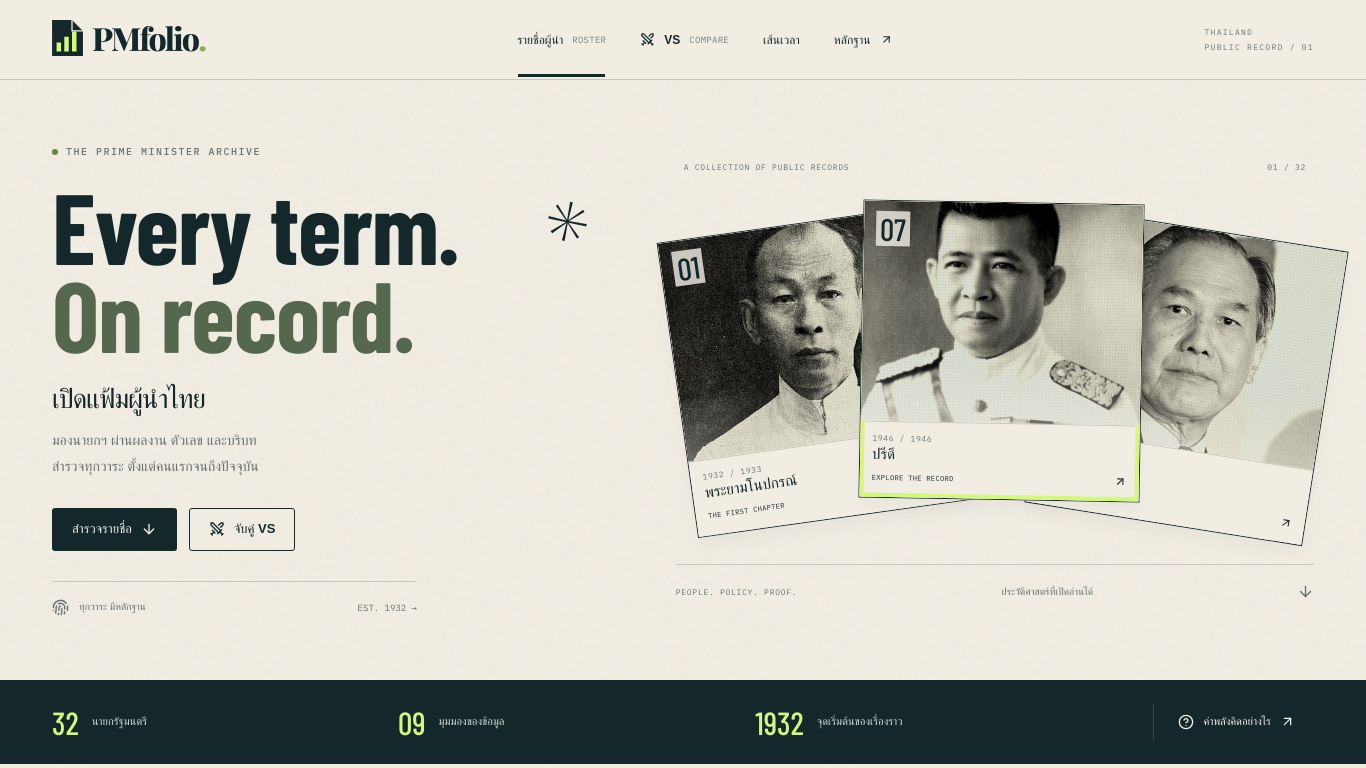
Test: roster to comparison flow › keeps fiscal context unscored and exposes real means, units, and WGI scale in raw mode
Click the button "VS COMPARE".
click(685, 40)  # box [628,22,741,56]
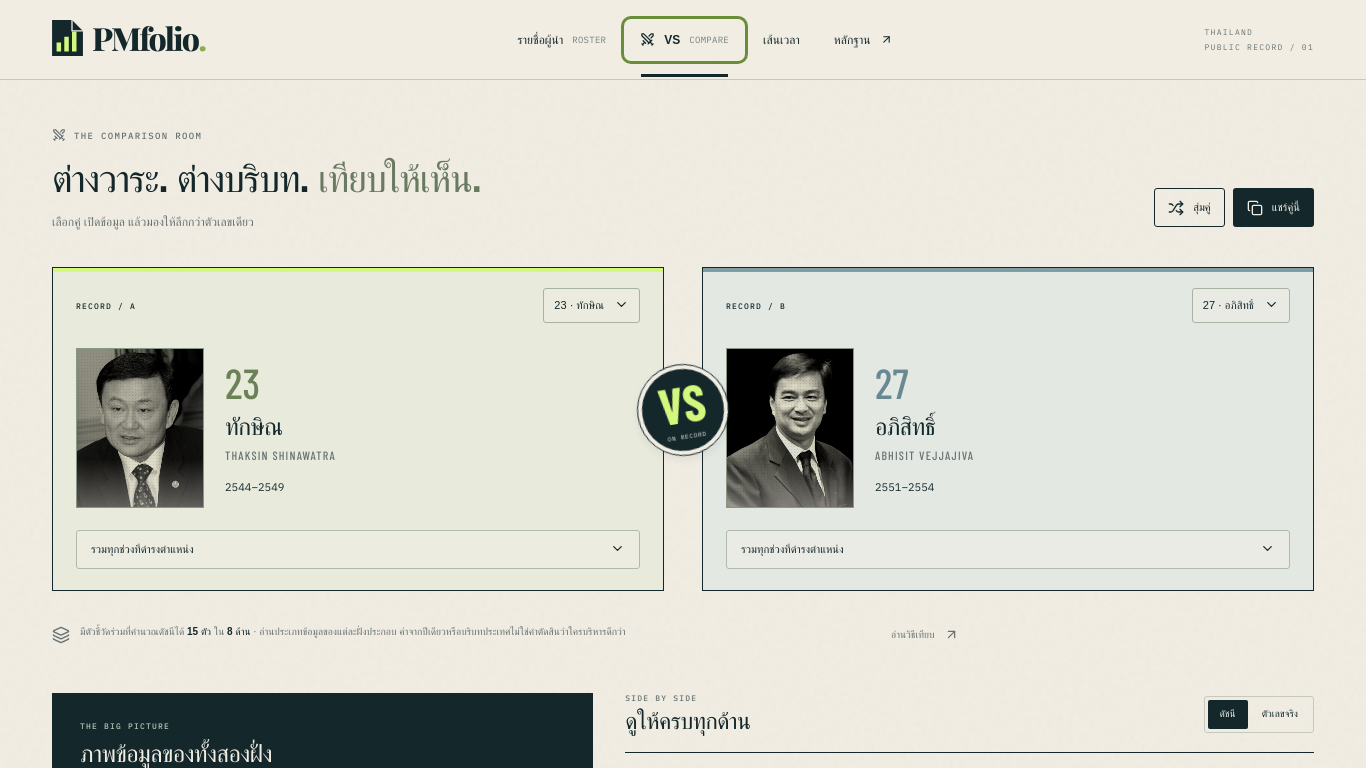
Click the button "ตัวเลขจริง".
click(1280, 714)  # box [1250,700,1310,729]
(page scrolled)
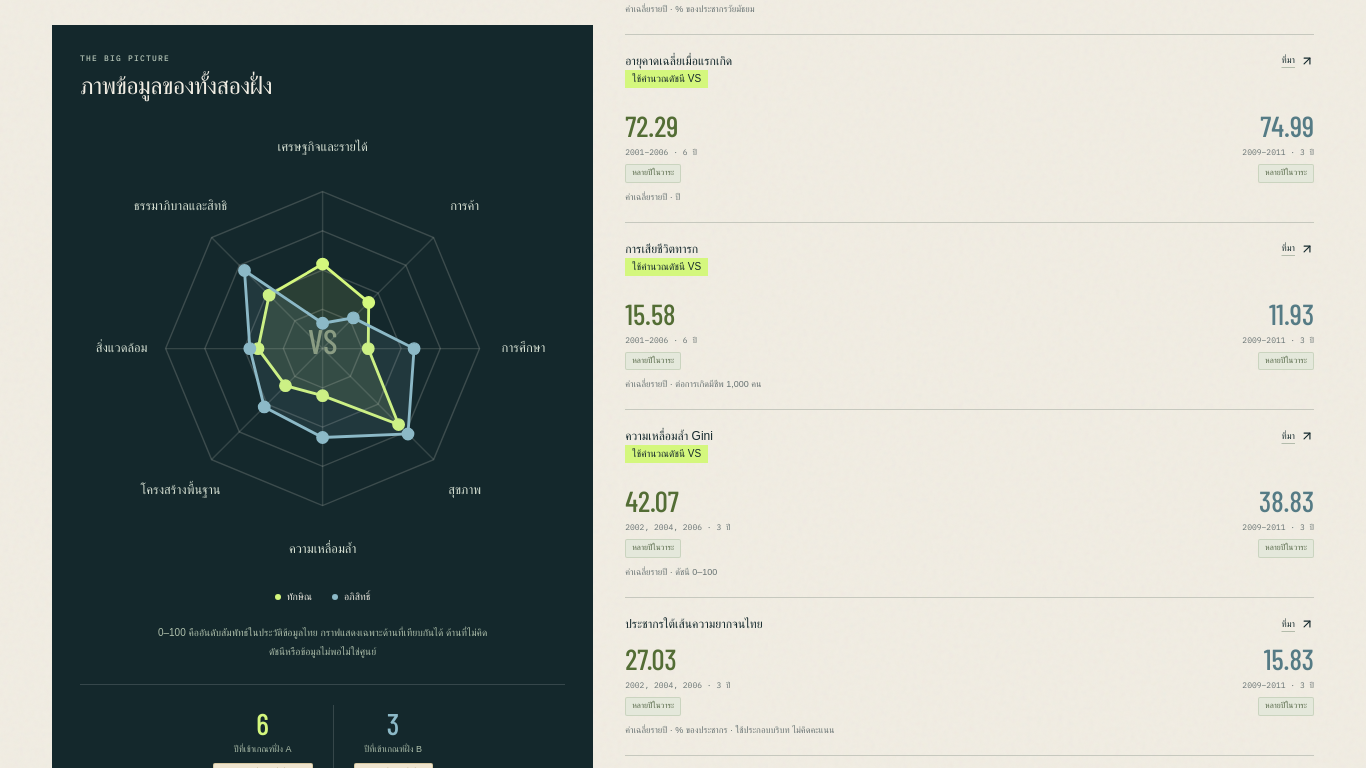
Now the text "ค่าเฉลี่ยรายปี · ต่อการเกิดมีชีพ 1,000 คน" is shown, box [625,379,761,389]
